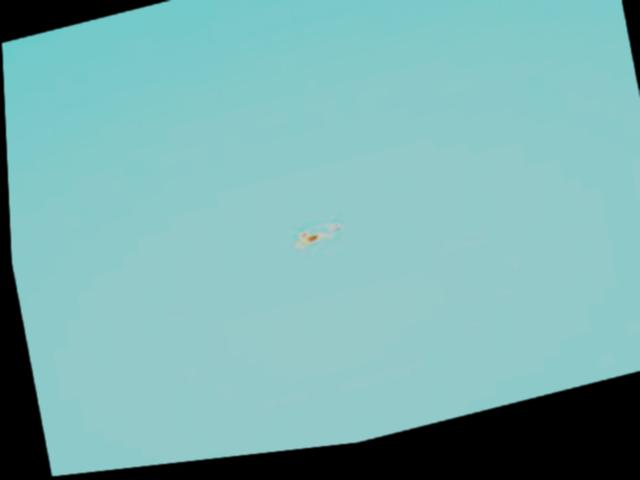iha: (288, 225, 345, 261)
